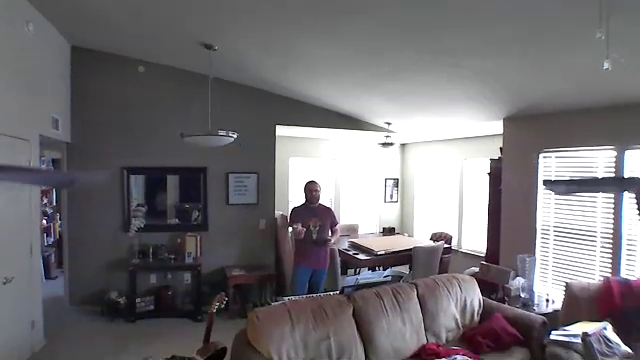land: (289, 222, 311, 242)
